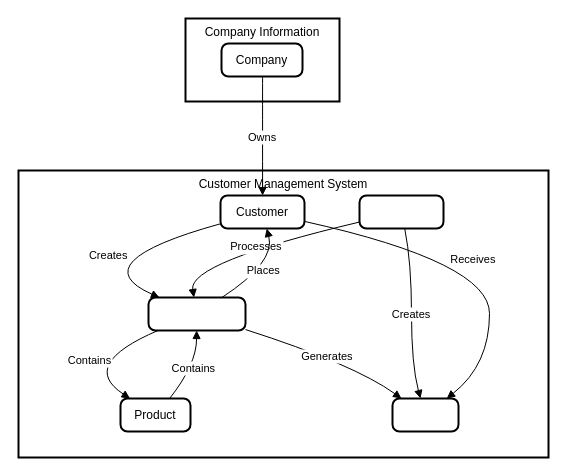
Some shapes in this 566 by 475 pixel diagram are drawn without their labels. The box of each missing label's shape, as (x1, y1, x2, y2) in pixels:
Employee: (358, 194, 444, 229)
Invoice: (391, 397, 459, 432)
OrderGiven: (147, 296, 246, 331)
